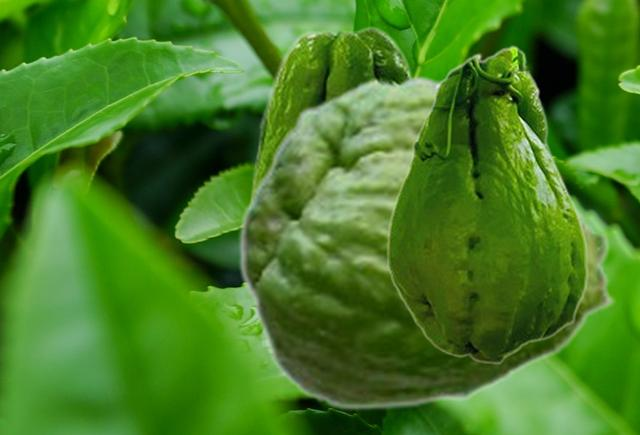sayote: (238, 74, 617, 411), (386, 45, 588, 364), (246, 25, 416, 203)
